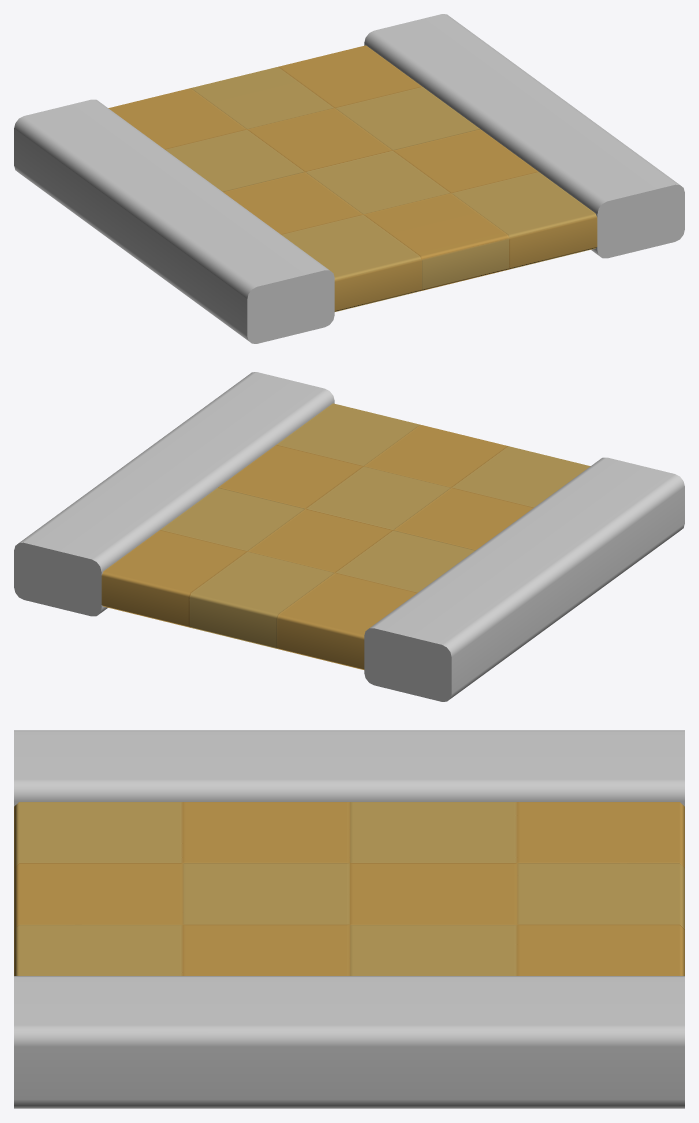
Rendered from SquareGridFloor_Narrow.fbx.
3 views of the same model, one above another, from view 1: azimuth 30°, elevation 25°; view 2: azimuth 150°, elevation 25°; view 3: azimuth 270°, elevation 25° (orthographic). The views are drawn at different scales.
Parts seen in each view (by area): view 1: SquareGridFloor_Narrow; view 2: SquareGridFloor_Narrow; view 3: SquareGridFloor_Narrow.
Part boxes in pixels (x1,y1,x2,y2): SquareGridFloor_Narrow: (14,14,684,343); SquareGridFloor_Narrow: (14,372,684,701); SquareGridFloor_Narrow: (14,730,684,1108).
Size of the model in its own units: 650 by 81.08 by 600.
